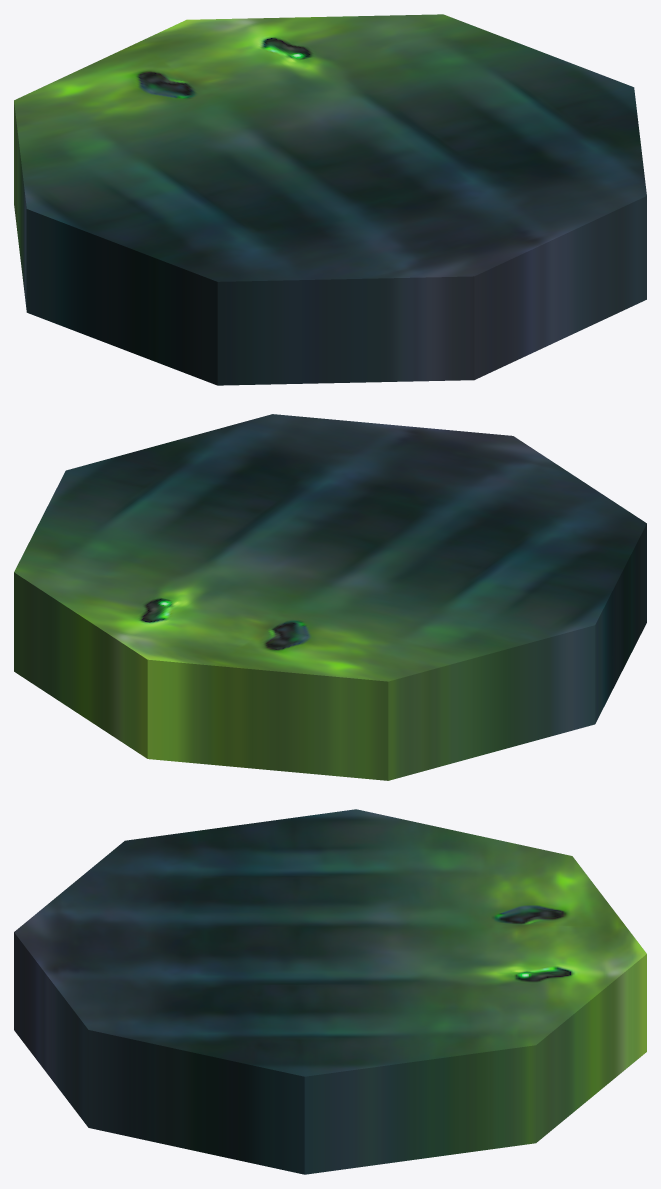
The model's file is BaseDec_2.gltf.
3 views of the same model, one above another, from view 1: azimuth 30°, elevation 25°; view 2: azimuth 150°, elevation 25°; view 3: azimuth 270°, elevation 25° (orthographic). The views are drawn at different scales.
Parts seen in each view (by area): view 1: BaseDec_2; view 2: BaseDec_2; view 3: BaseDec_2.
Boxes of the visible parts, x1,y1,x2,y2 form: BaseDec_2: (14,14,646,385); BaseDec_2: (14,414,646,780); BaseDec_2: (14,809,646,1174).
Size of the model in its own units: 2.74 by 0.4681 by 2.74.
1 material, 1 textured.
